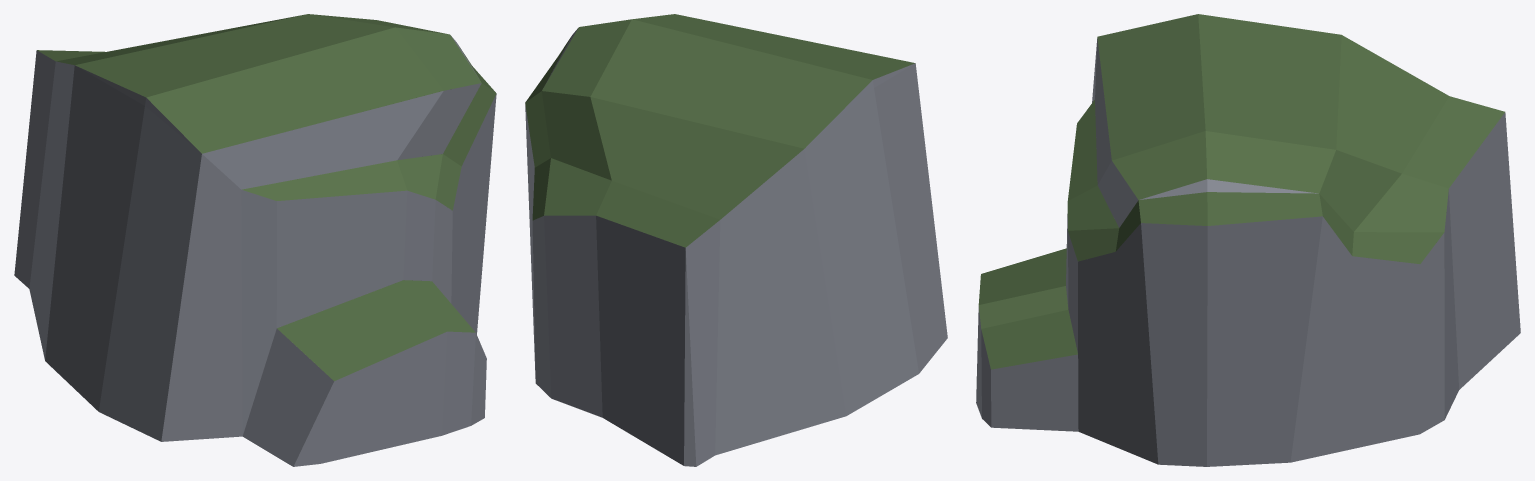
Rendered from Rock_Moss_6.glb.
The picture shows the model from 3 angles, left to right: view 1: azimuth 30°, elevation 25°; view 2: azimuth 150°, elevation 25°; view 3: azimuth 270°, elevation 25°; orthographic projection. The views are drawn at different scales.
Parts seen in each view (by area): view 1: Rock_Moss_6; view 2: Rock_Moss_6; view 3: Rock_Moss_6.
Boxes of the visible parts, <box> form: Rock_Moss_6: <box>14,14,496,466</box>; Rock_Moss_6: <box>525,14,947,466</box>; Rock_Moss_6: <box>976,14,1520,466</box>.
Size of the model in its own units: 0.912 by 0.7078 by 1.14.
